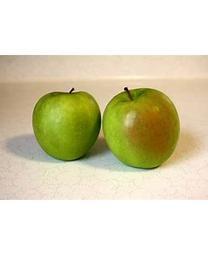apple: (102, 86, 180, 168), (31, 87, 100, 160)
